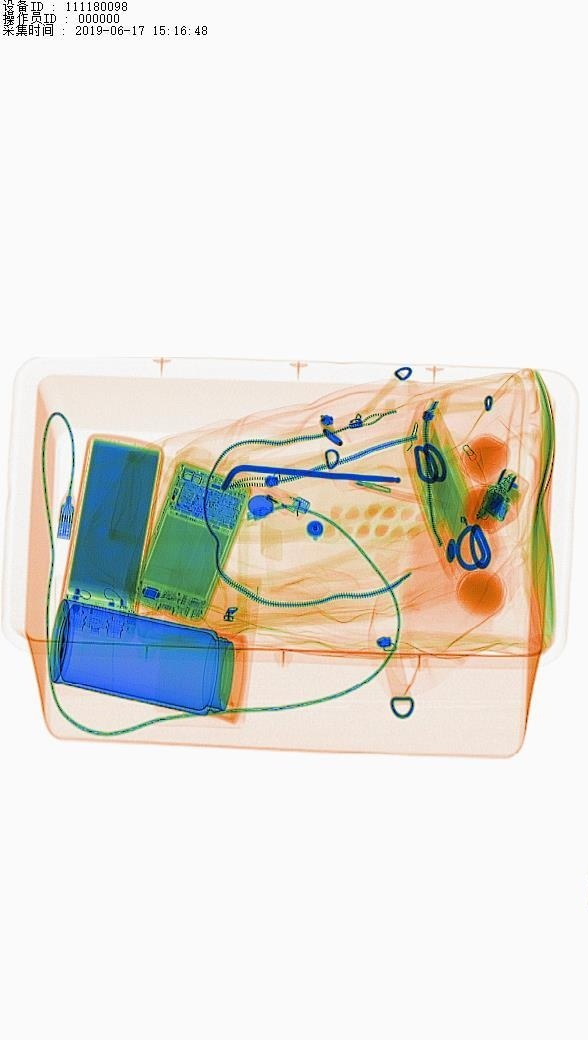NonmetallicFire: (230, 469, 332, 530)
